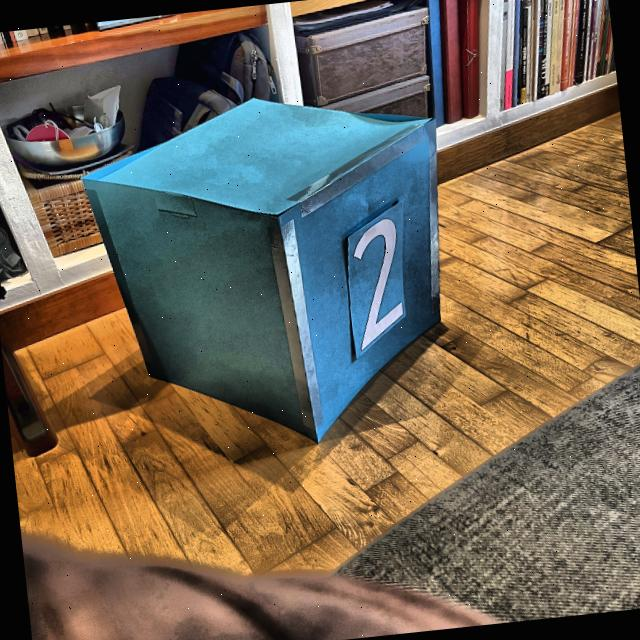blue box: (63, 71, 476, 472)
two: (346, 215, 412, 352)
